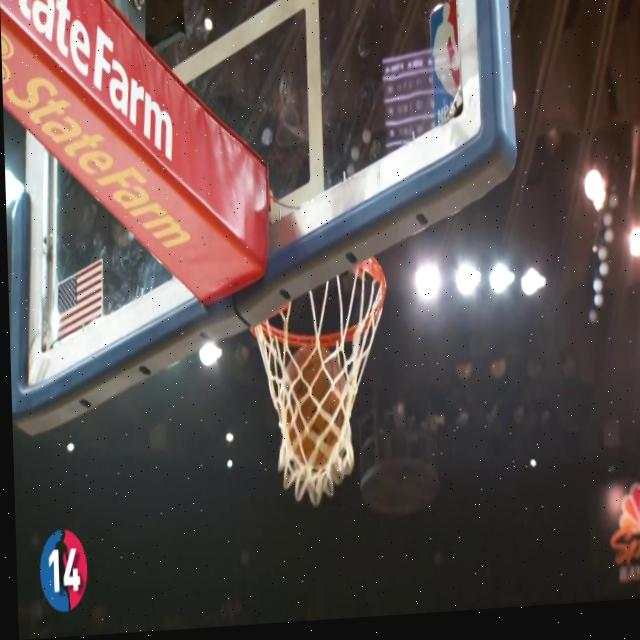basketball: (277, 333, 355, 476)
hoop: (246, 241, 397, 520), (246, 246, 396, 517)
